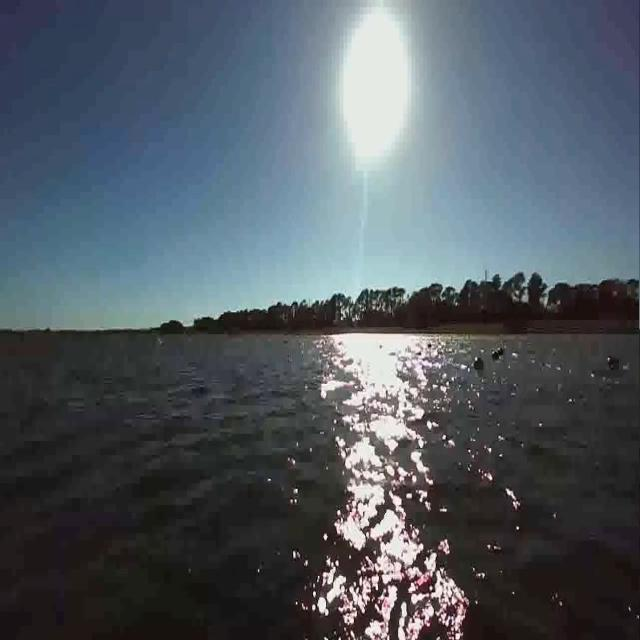green-buoy: (473, 356, 484, 371)
